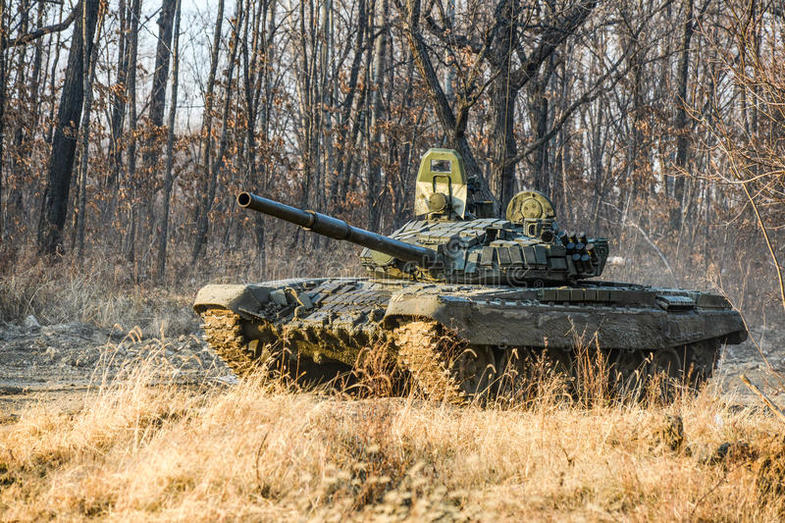t72: (196, 178, 754, 398)
